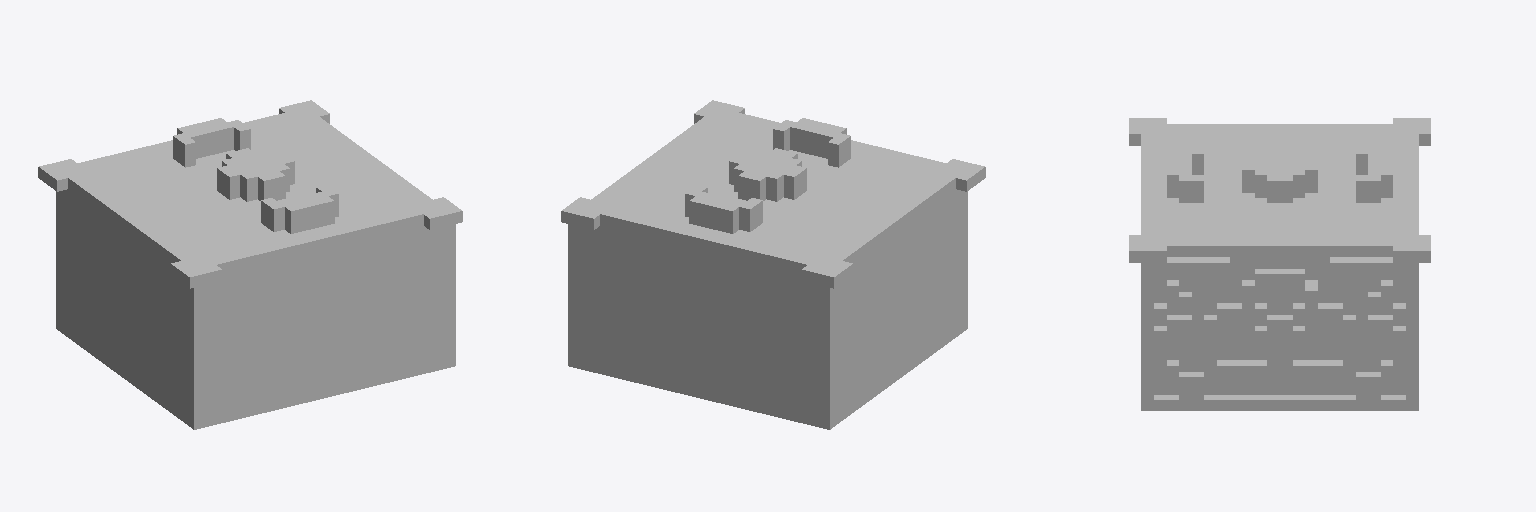
Rendered from dancing Platform.obj.
3 renders of one model, left to right at view 1: azimuth 30°, elevation 25°; view 2: azimuth 150°, elevation 25°; view 3: azimuth 270°, elevation 25°, orthographic.
Visible parts, largest first — view 1: object 1; view 2: object 1; view 3: object 1.
Boxes of the visible parts, x1,y1,x2,y2 form: object 1: [38, 100, 462, 429]; object 1: [561, 100, 985, 429]; object 1: [1129, 118, 1430, 410].
Bounding box in the file's own units: 2.6 × 1.6 × 2.4.